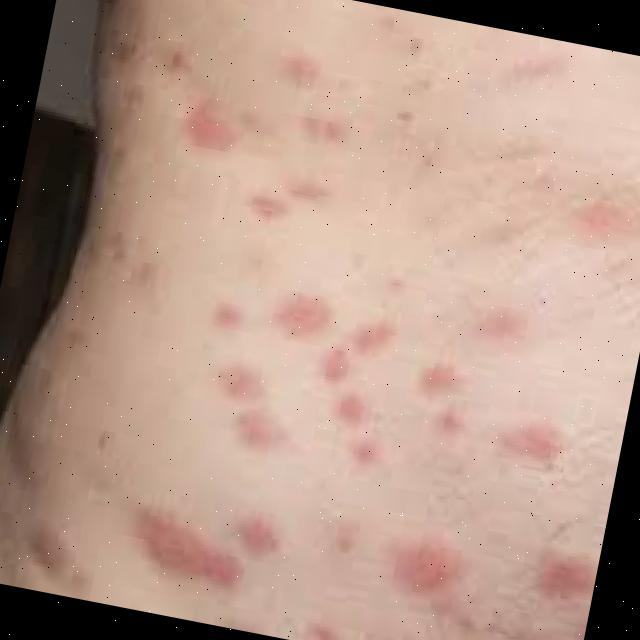kan emici bocekler: (305, 314, 404, 472), (118, 504, 261, 609), (215, 363, 292, 454), (383, 531, 463, 606), (420, 364, 481, 444), (529, 546, 600, 614), (185, 95, 246, 159), (278, 287, 338, 343), (231, 508, 284, 569), (505, 426, 563, 469), (471, 307, 524, 354), (572, 196, 623, 244), (280, 57, 331, 101), (247, 186, 288, 224), (302, 114, 342, 150), (211, 301, 249, 336), (295, 175, 332, 200)
